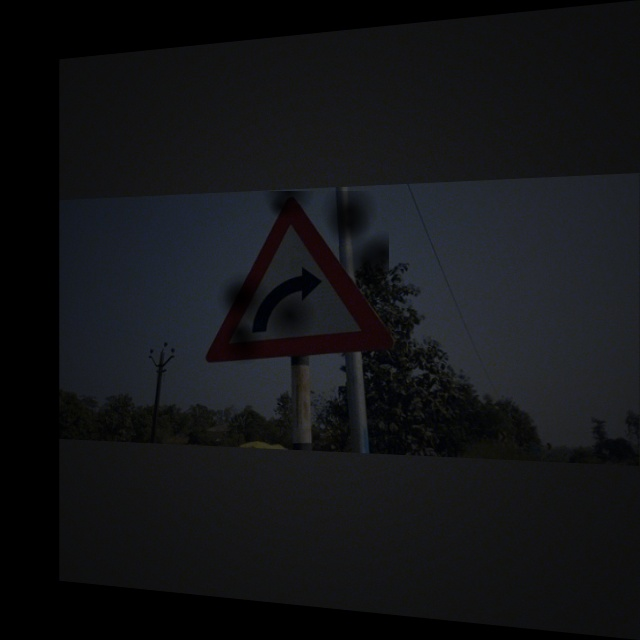Right_Hand_Curve: (212, 191, 389, 367)
